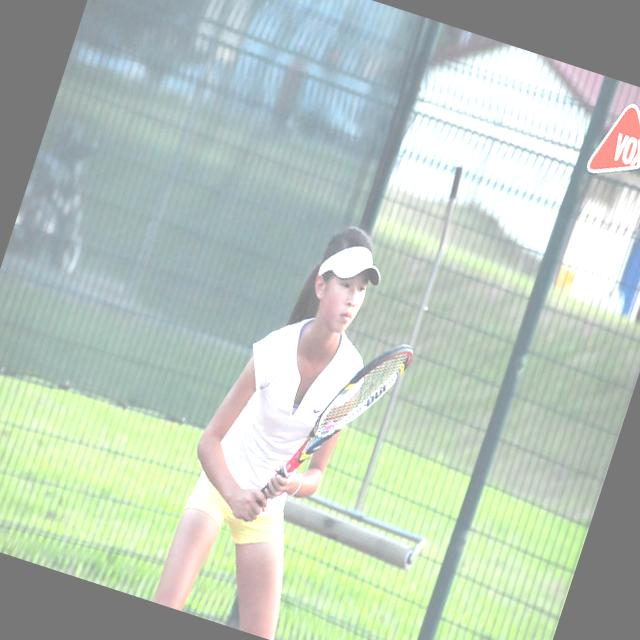Vehicle: (5, 107, 121, 277)
